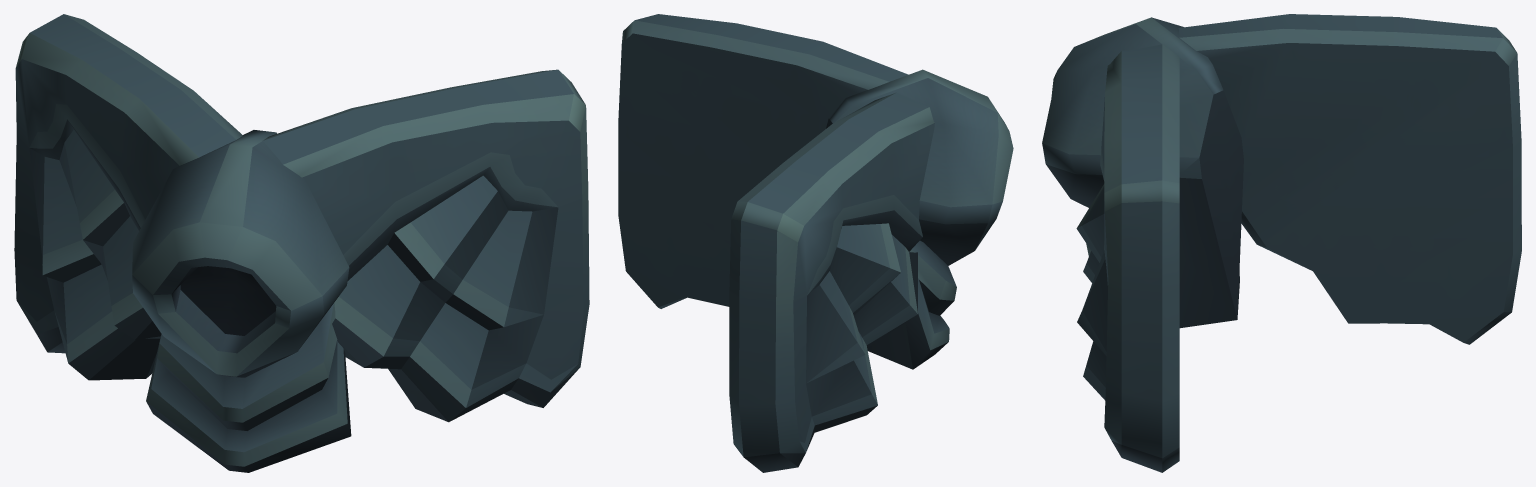
The model's file is corner_ornament_angel.fbx.
The picture shows the model from 3 angles, left to right: view 1: azimuth 30°, elevation 25°; view 2: azimuth 150°, elevation 25°; view 3: azimuth 270°, elevation 25°; orthographic projection. The views are drawn at different scales.
Parts seen in each view (by area): view 1: corner_ornament_angel; view 2: corner_ornament_angel; view 3: corner_ornament_angel.
Part boxes in pixels (bbox=[...]): corner_ornament_angel: bbox=[14, 14, 589, 472]; corner_ornament_angel: bbox=[618, 14, 1013, 472]; corner_ornament_angel: bbox=[1042, 14, 1521, 472].
Bounding box in the file's own units: 127 × 93.74 × 128.
